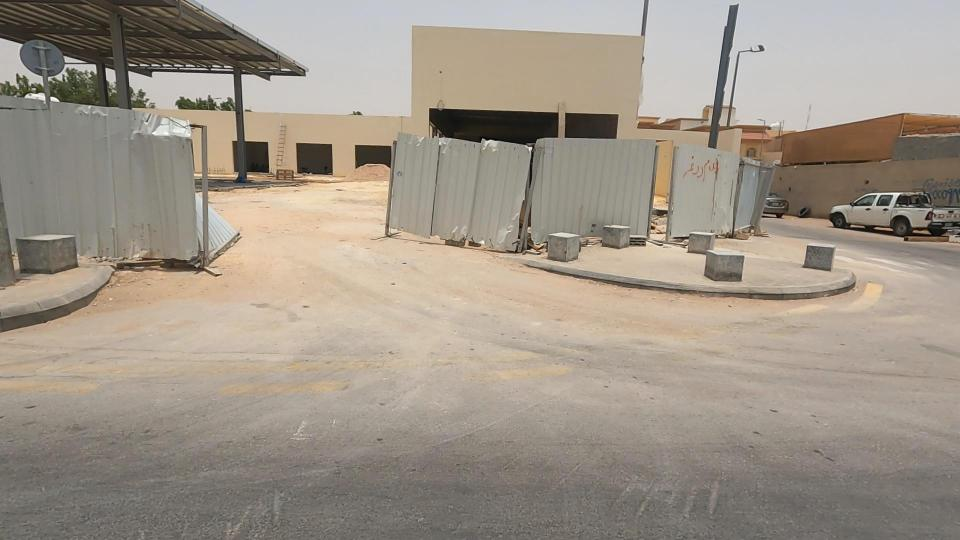GRAFFITI: (619, 116, 765, 215)
SAND_ON_ROAD: (334, 141, 404, 204)
